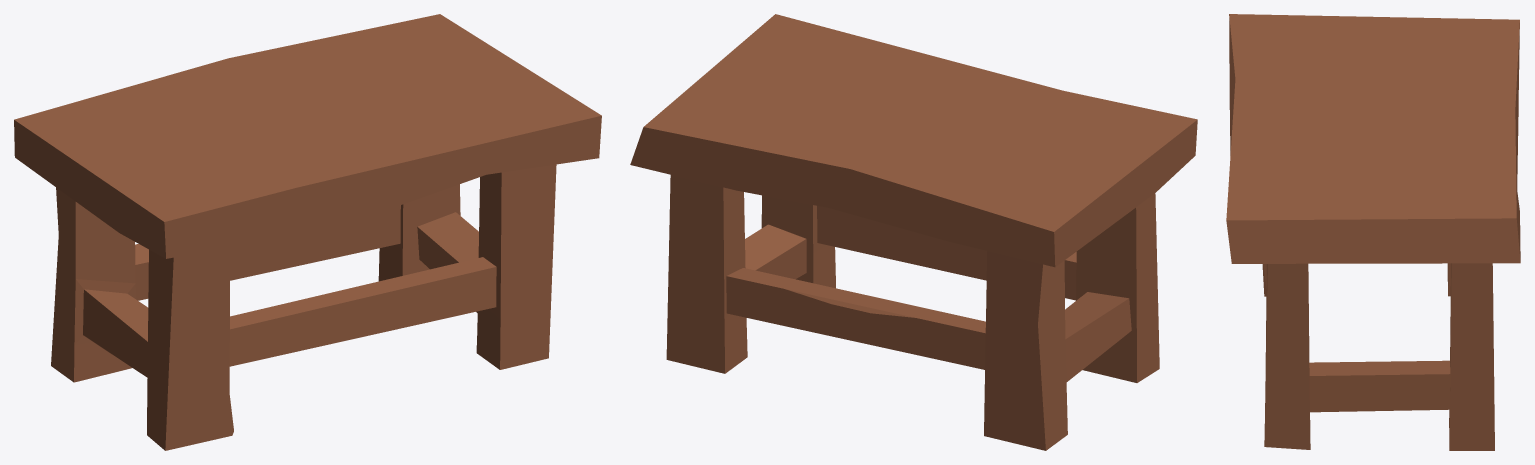
Rendered from Table.fbx.
3 renders of one model, left to right at view 1: azimuth 30°, elevation 25°; view 2: azimuth 150°, elevation 25°; view 3: azimuth 270°, elevation 25°, orthographic. The views are drawn at different scales.
Visible parts, largest first — view 1: Table; view 2: Table; view 3: Table.
Boxes of the visible parts, bbox=[...] form: Table: bbox=[14, 14, 601, 450]; Table: bbox=[630, 14, 1197, 450]; Table: bbox=[1226, 14, 1520, 450].
Size of the model in its own units: 4.01 by 2.21 by 2.39.
